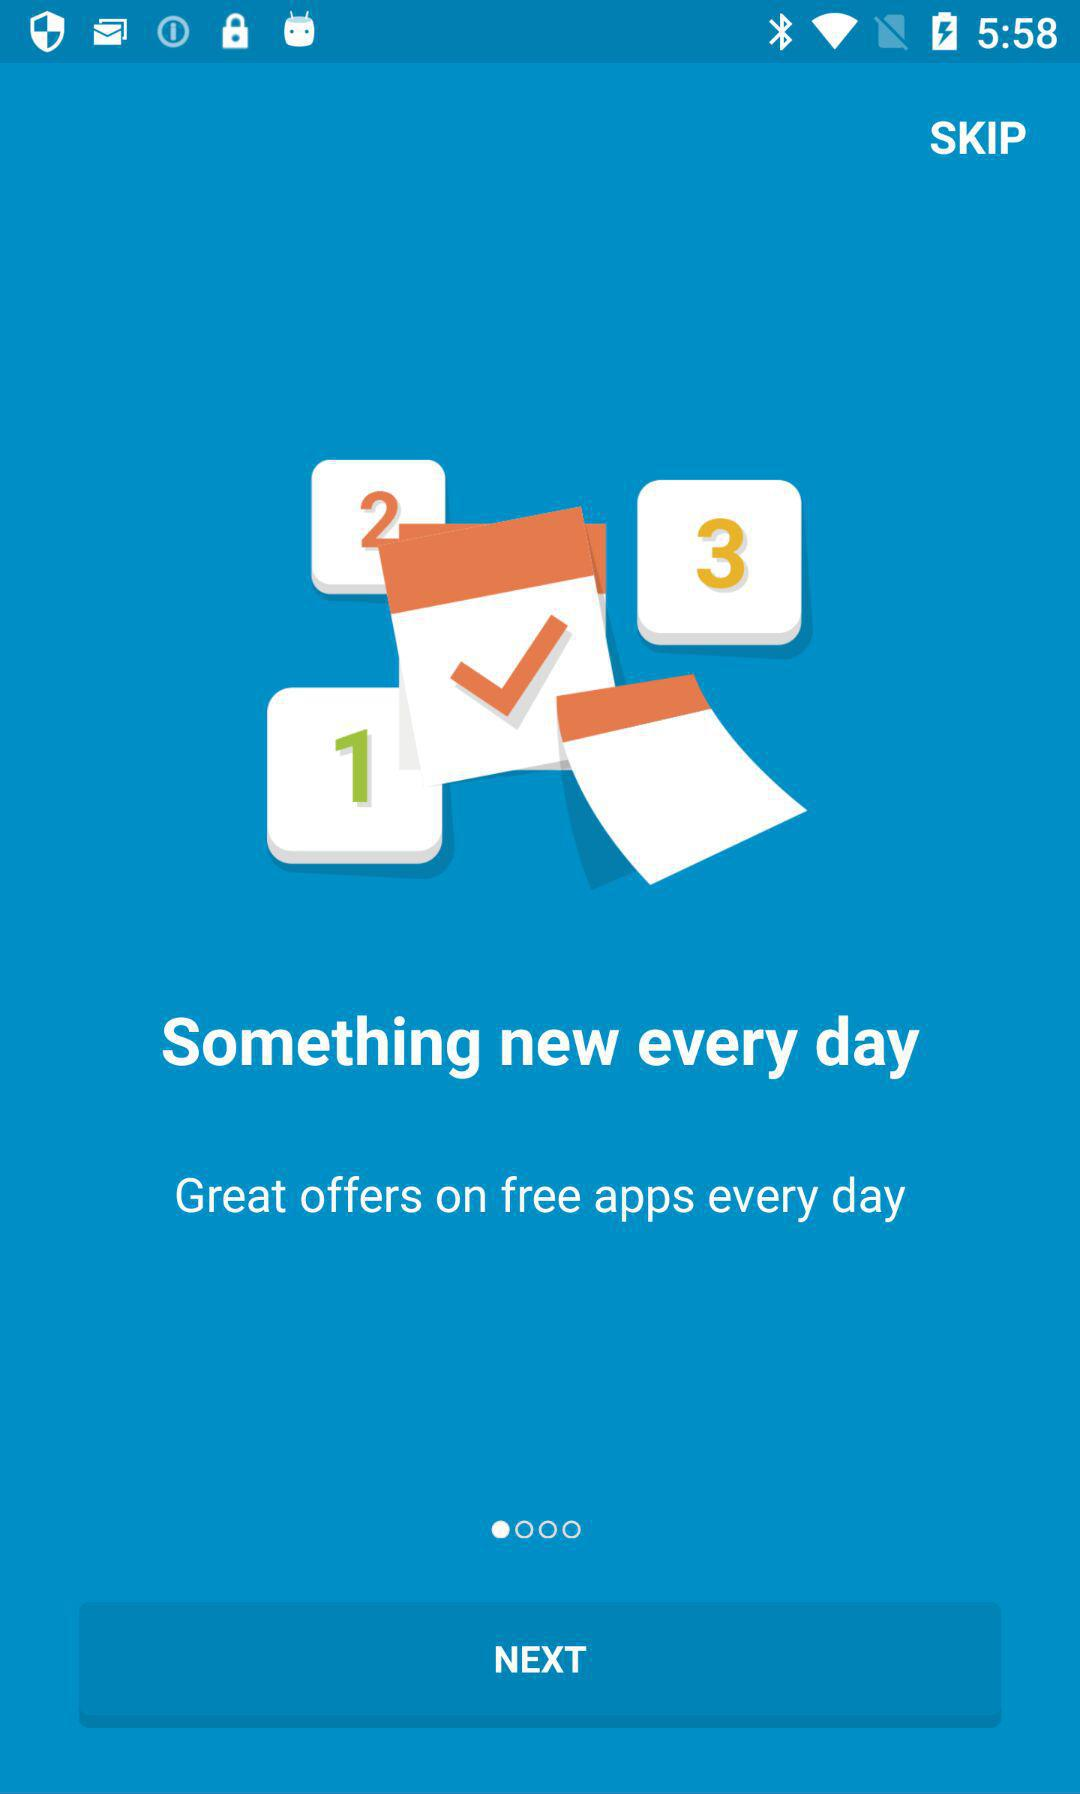Image: (266, 460, 811, 885)
PageIndicator: (489, 1518, 583, 1542)
Text: (161, 1014, 919, 1079), (177, 1174, 907, 1226), (930, 120, 1027, 156)
TextButton: (79, 1602, 1003, 1729)
UpperTaskBar: (1, 1, 1080, 64)
